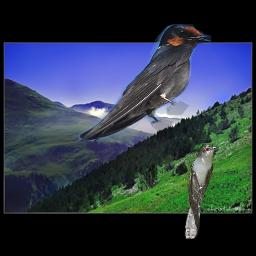Cuckoo: (184, 144, 219, 239)
Swallow: (78, 24, 211, 141)
